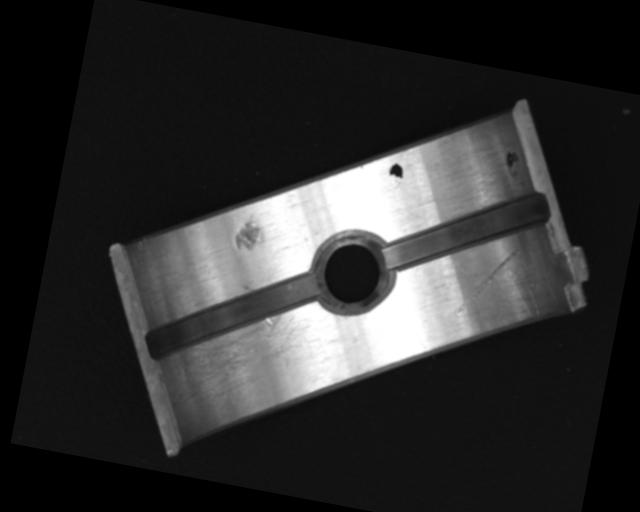blot: (503, 148, 521, 176), (387, 161, 405, 185)
bruise: (232, 211, 265, 253)
gap: (142, 244, 320, 385), (380, 165, 552, 296)
hole: (307, 223, 398, 320)
nick: (452, 236, 520, 326)
scratch: (177, 283, 310, 411)
